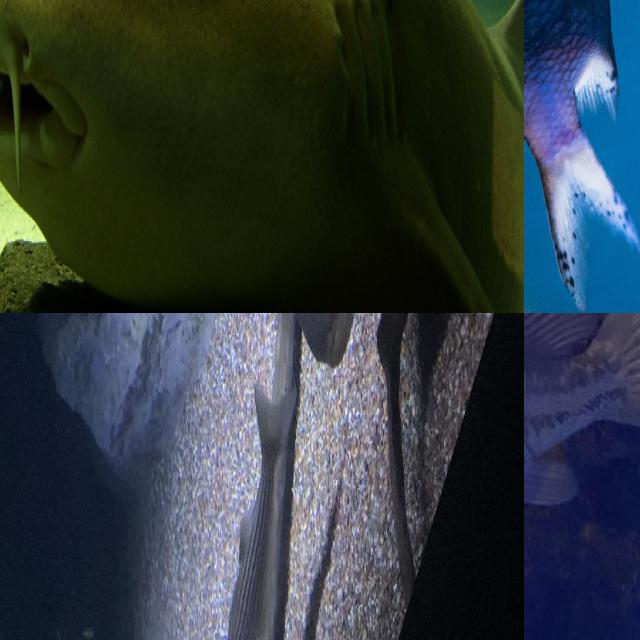fish: (0, 0, 524, 313), (524, 313, 640, 640), (524, 0, 640, 195)
